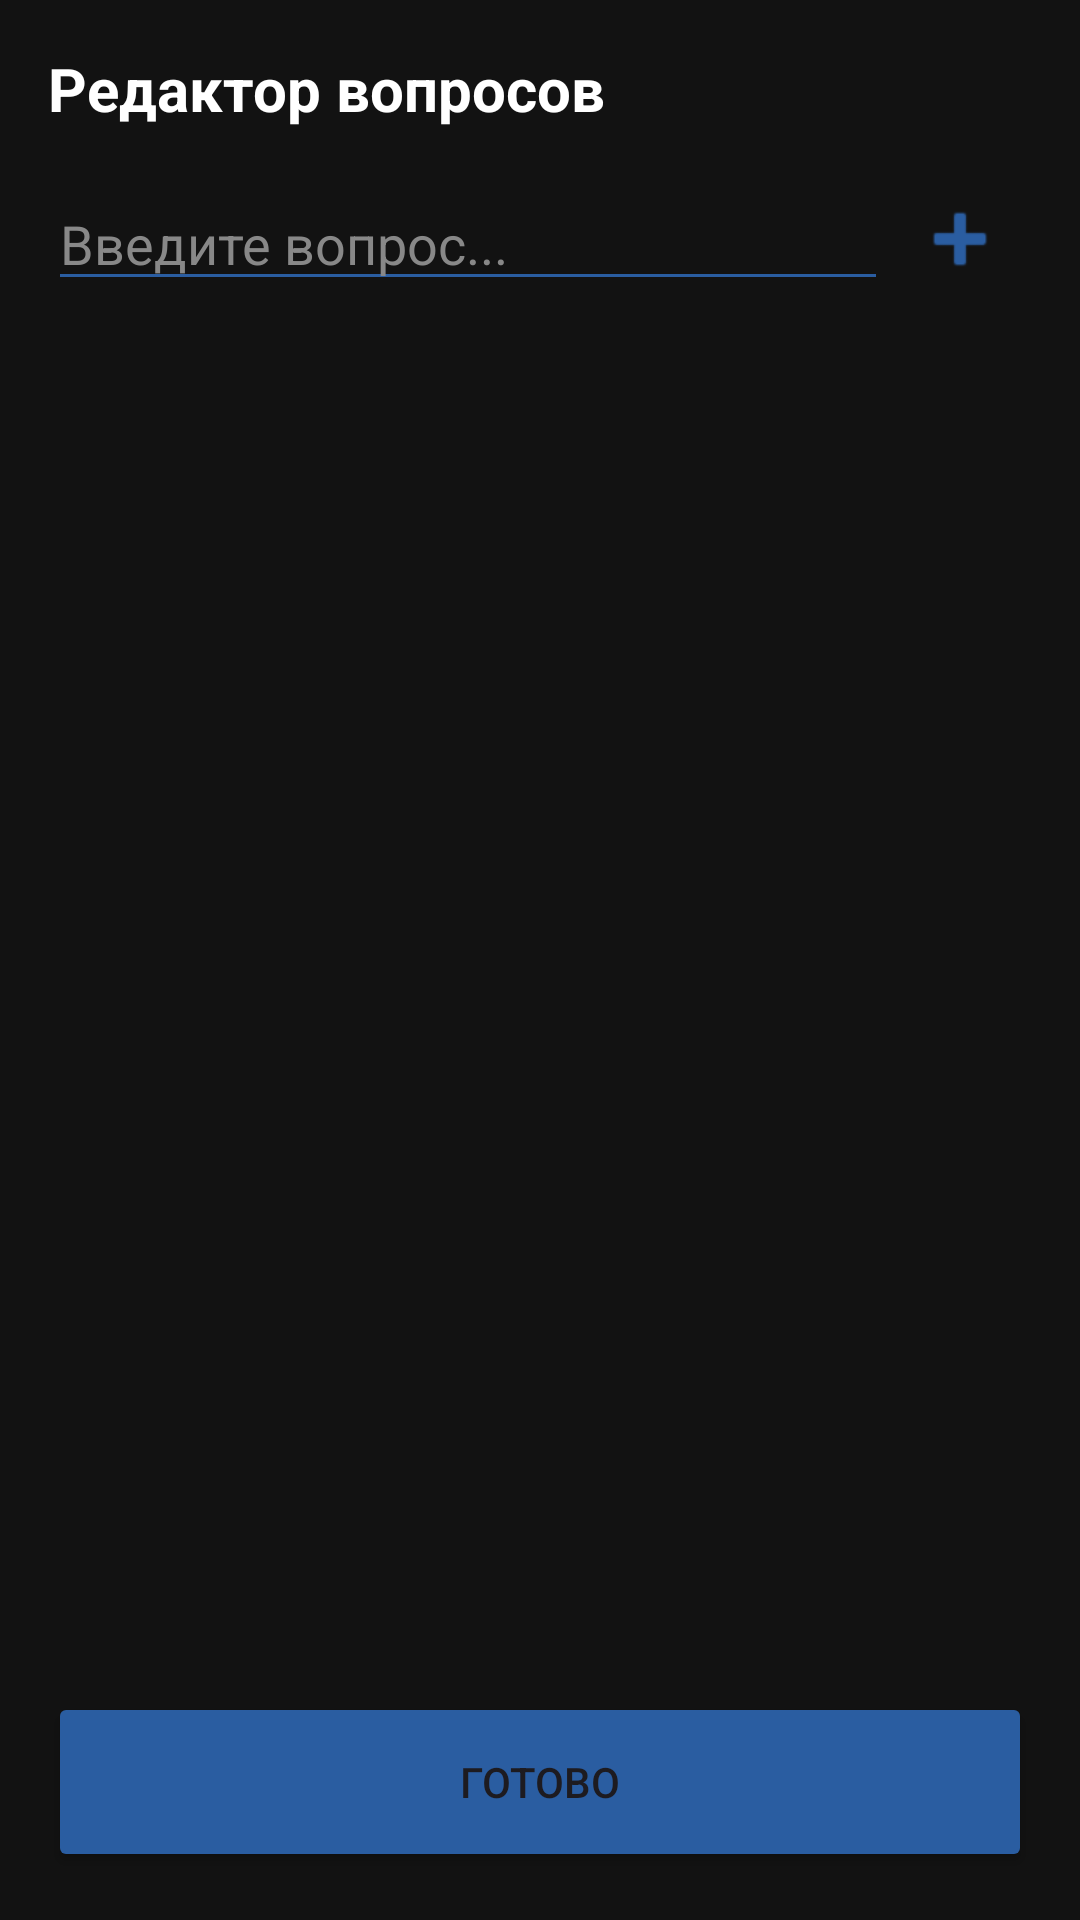

Screen size 1080 × 1920. Icon name, then its center in pixels as [x,y]:
add: [960,239]
